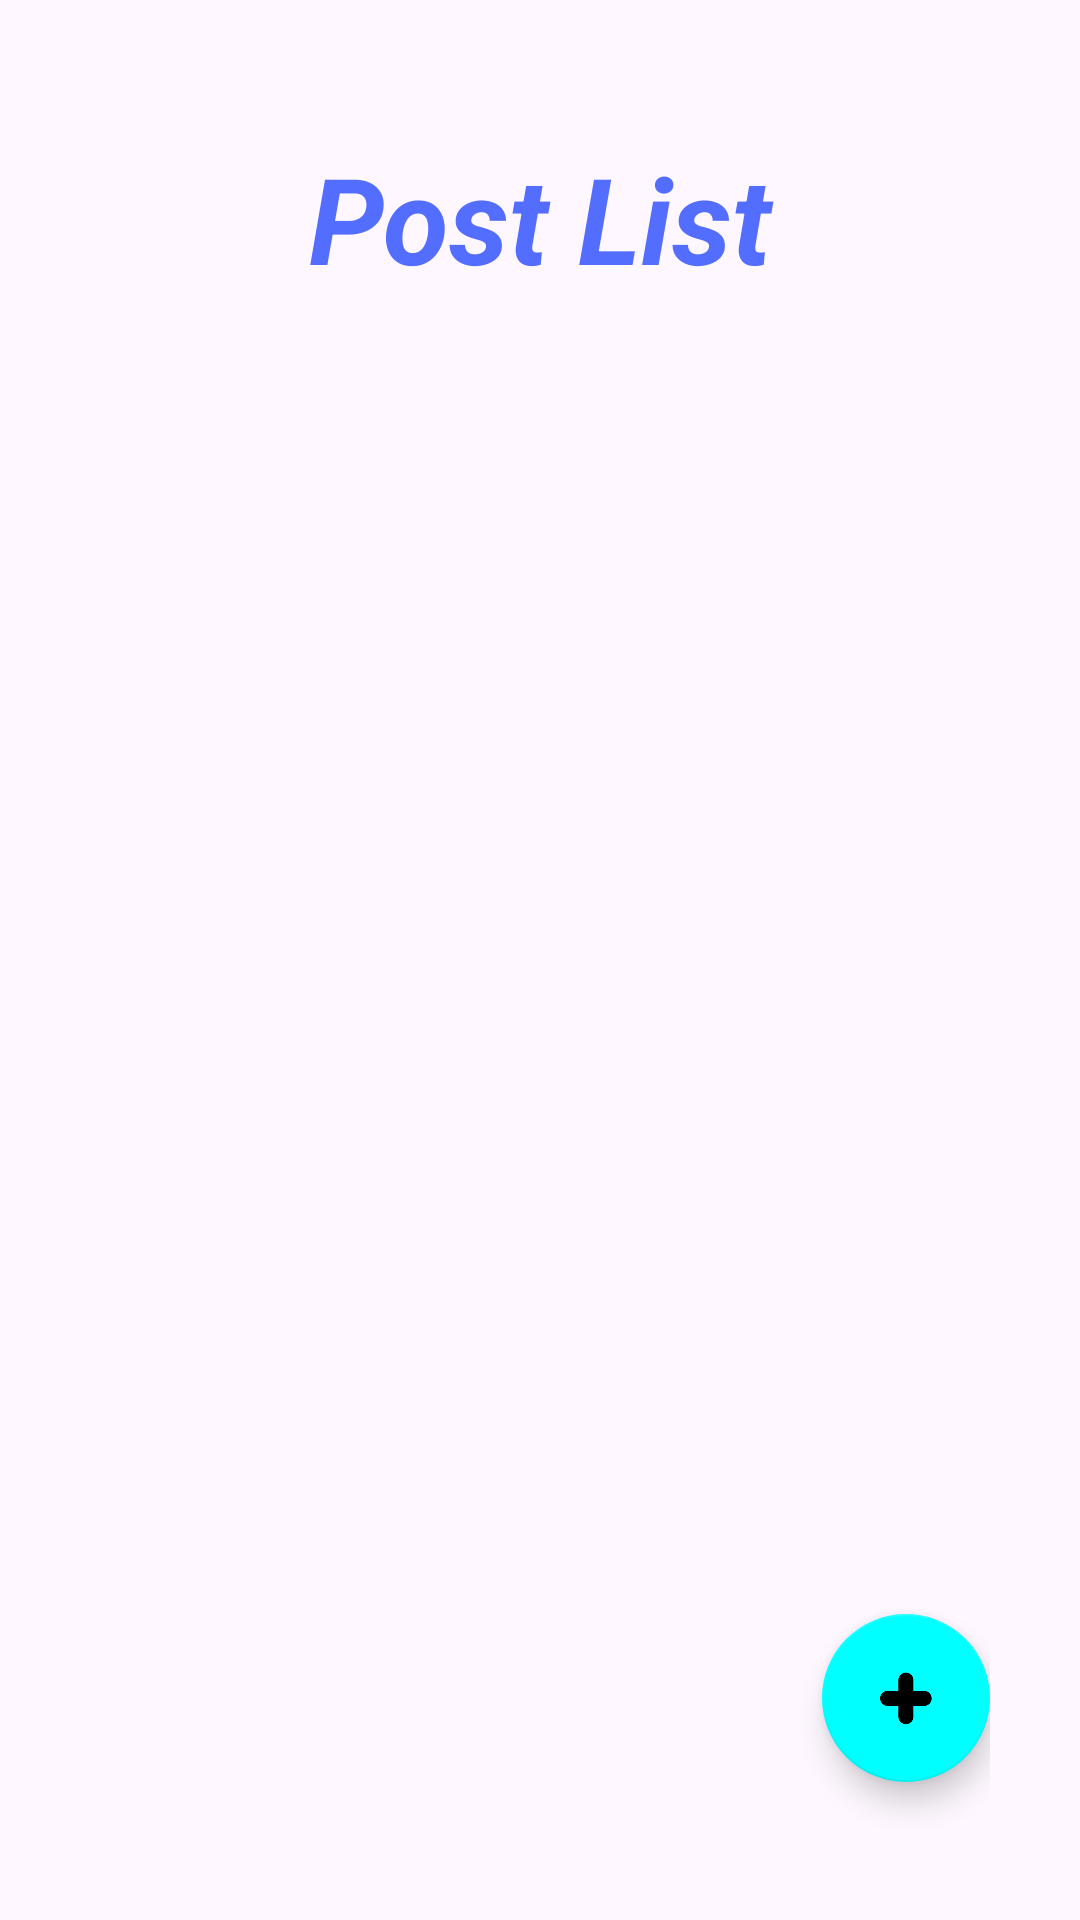

Icons on this 1080 x 1920 Android screen, each with the point to tap as (x=x, y=y):
Add: (x=906, y=1698)
